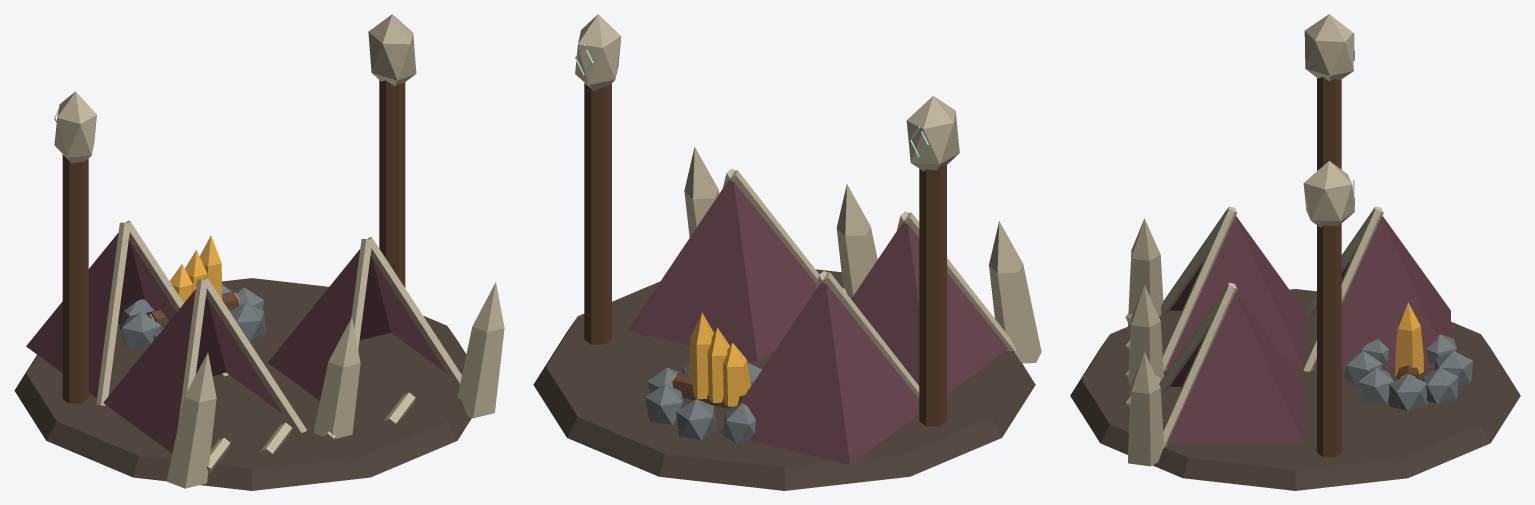
Rendered from MonsterCamp_3.fbx.
3 renders of one model, left to right at view 1: azimuth 30°, elevation 25°; view 2: azimuth 150°, elevation 25°; view 3: azimuth 270°, elevation 25°, orthographic. The views are drawn at different scales.
Parts seen in each view (by area): view 1: MonsterCamp_3; view 2: MonsterCamp_3; view 3: MonsterCamp_3.
Boxes of the visible parts, left/top/right/bottom form: MonsterCamp_3: left=14, top=14, right=504, bottom=490; MonsterCamp_3: left=533, top=14, right=1041, bottom=490; MonsterCamp_3: left=1070, top=14, right=1520, bottom=490.
Size of the model in its own units: 2 by 1.51 by 2.
1 material, 1 textured.
